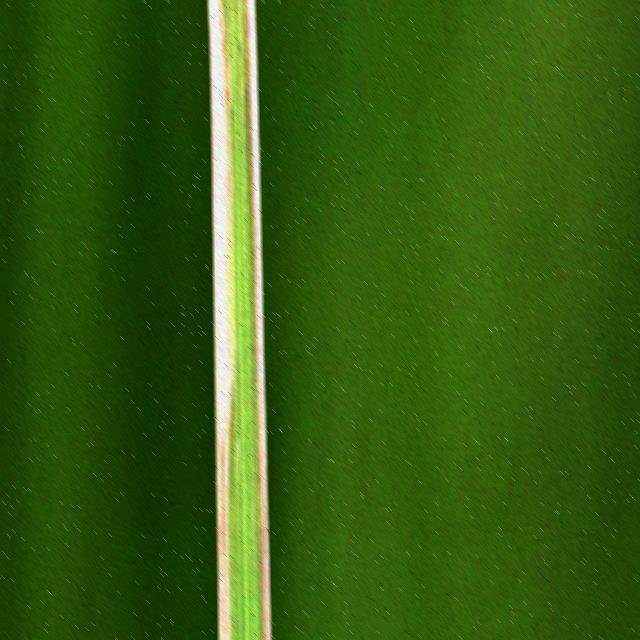BLB: (208, 0, 234, 640), (246, 0, 271, 640)
